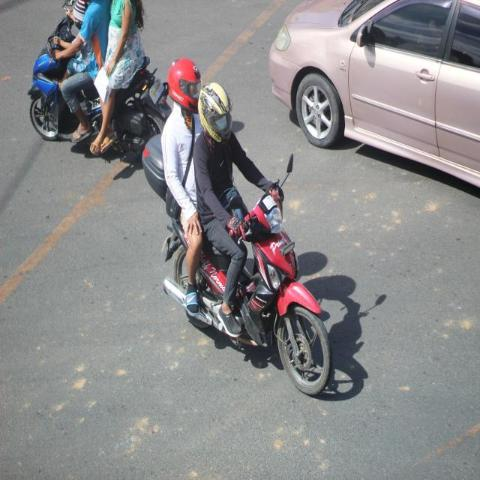car: (263, 0, 480, 200)
motorcycle: (140, 57, 333, 398), (28, 0, 173, 157)
